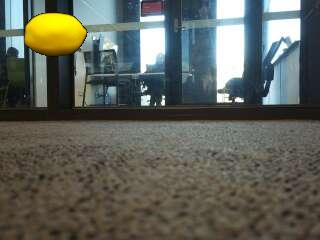lemon: (24, 14, 85, 56)
